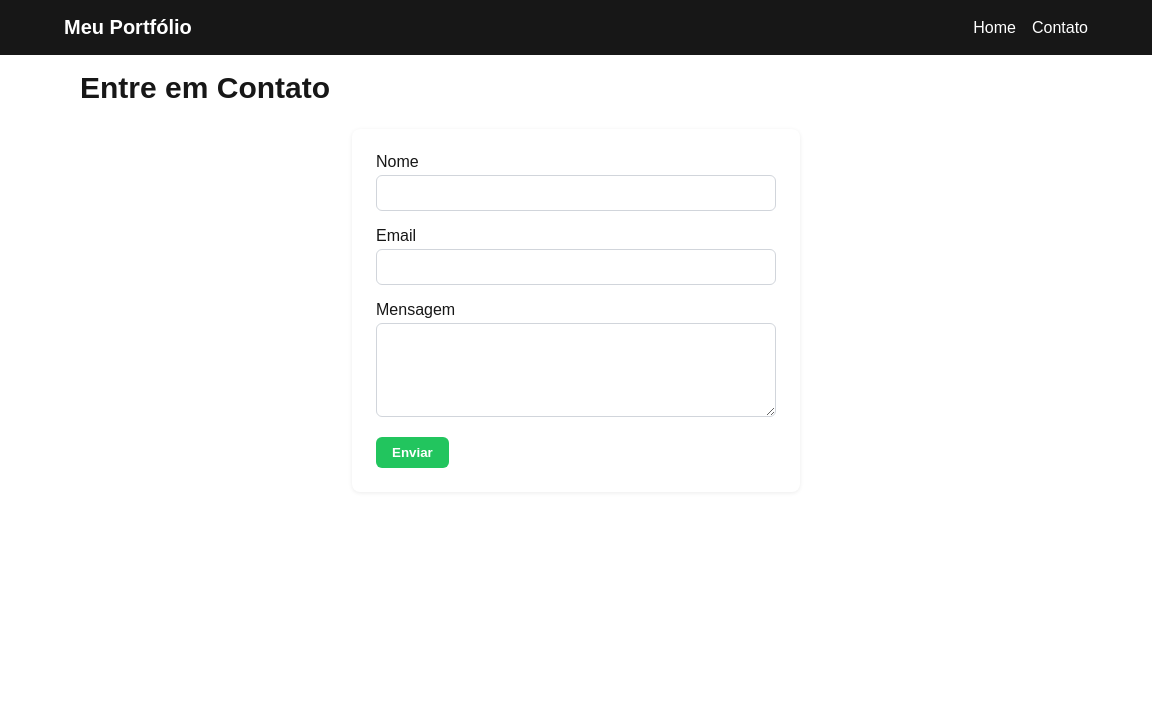
Formulário de Contato › exibe mensagem de sucesso ao enviar formulário
The width and height of the screenshot is (1152, 720).
# Preenche o formulário
Type "João Silva" into the field with test id "name-input" at point(576, 193), box [376,175,776,211]
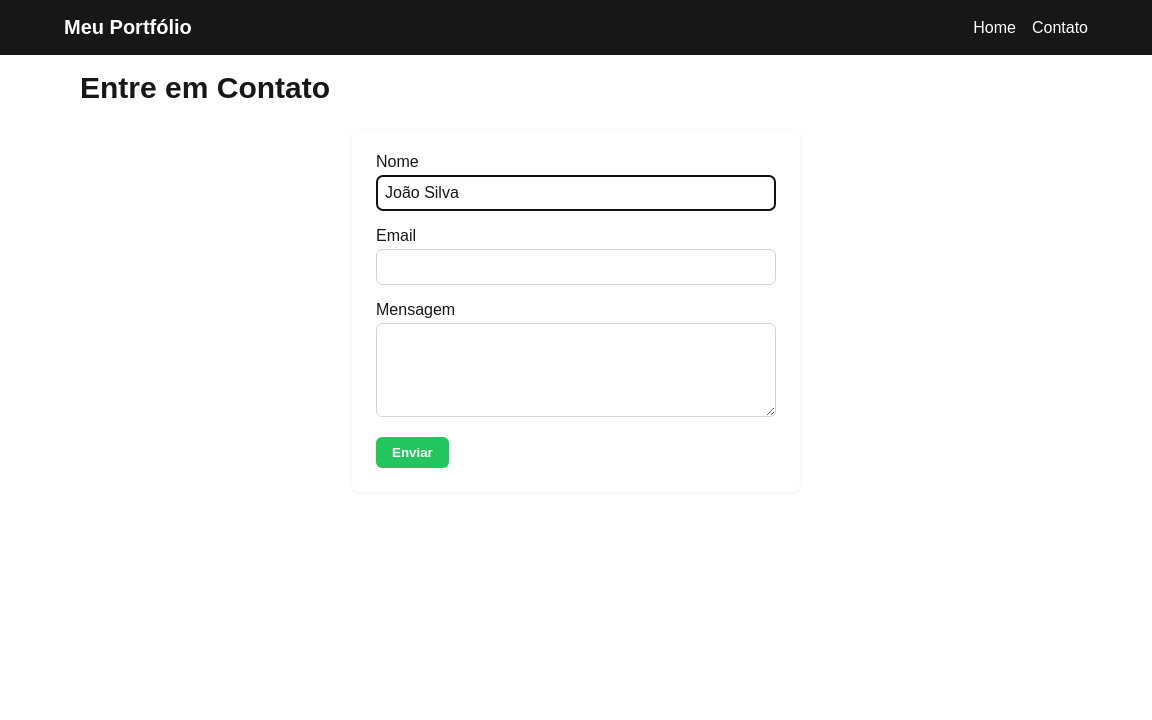
Type "joao@exemplo.com" into the field with test id "email-input" at point(576, 267), box [376,249,776,285]
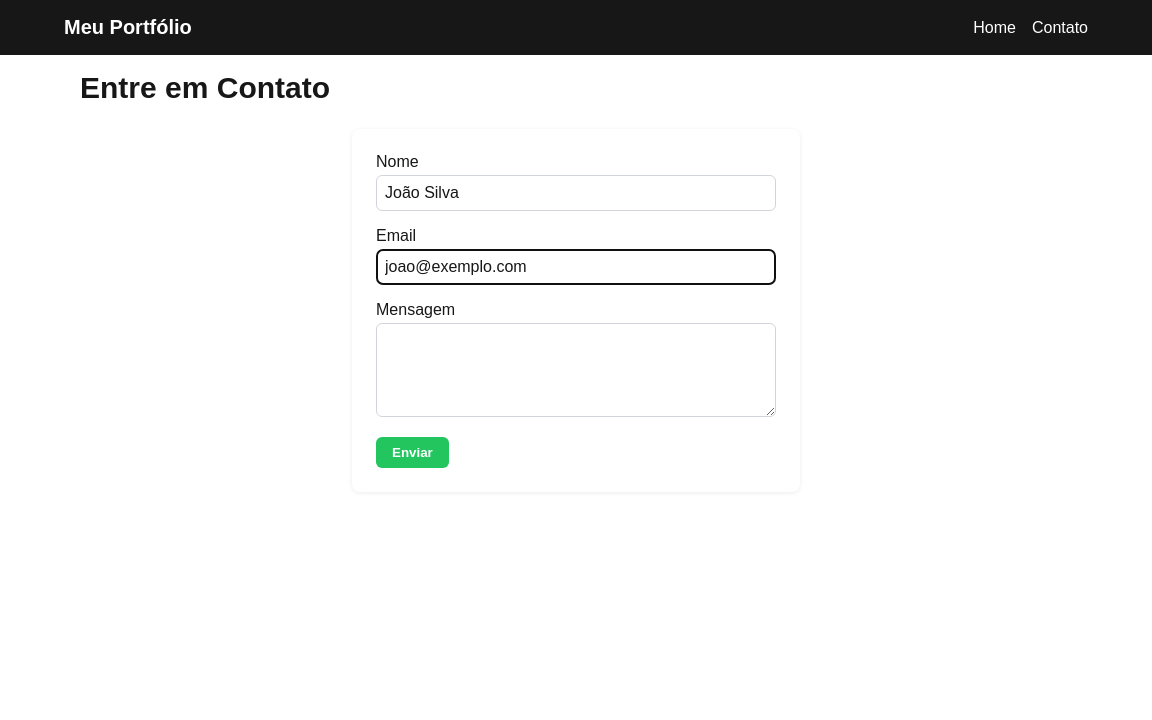
Type "Olá, gostaria de entrar em contato." into the text box with test id "message-input" at point(576, 370), box [376,323,776,417]
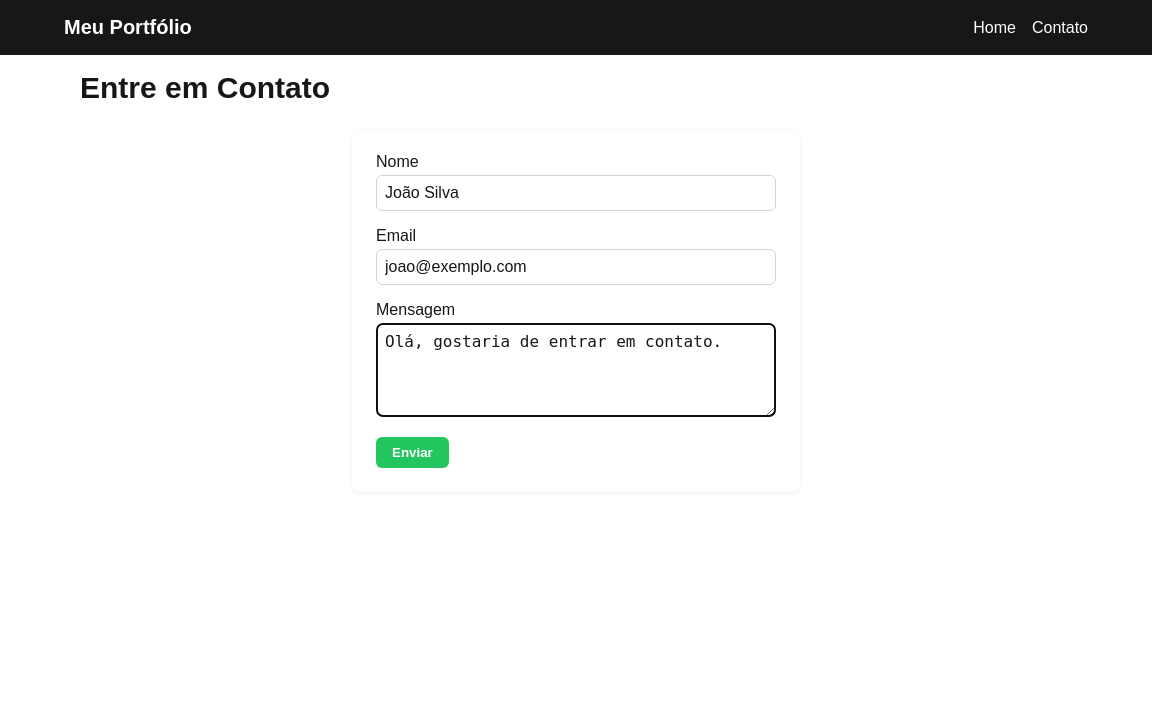
# Submete o formulário
Click the button with test id "submit-button" at point(413, 453), box [376,437,449,468]
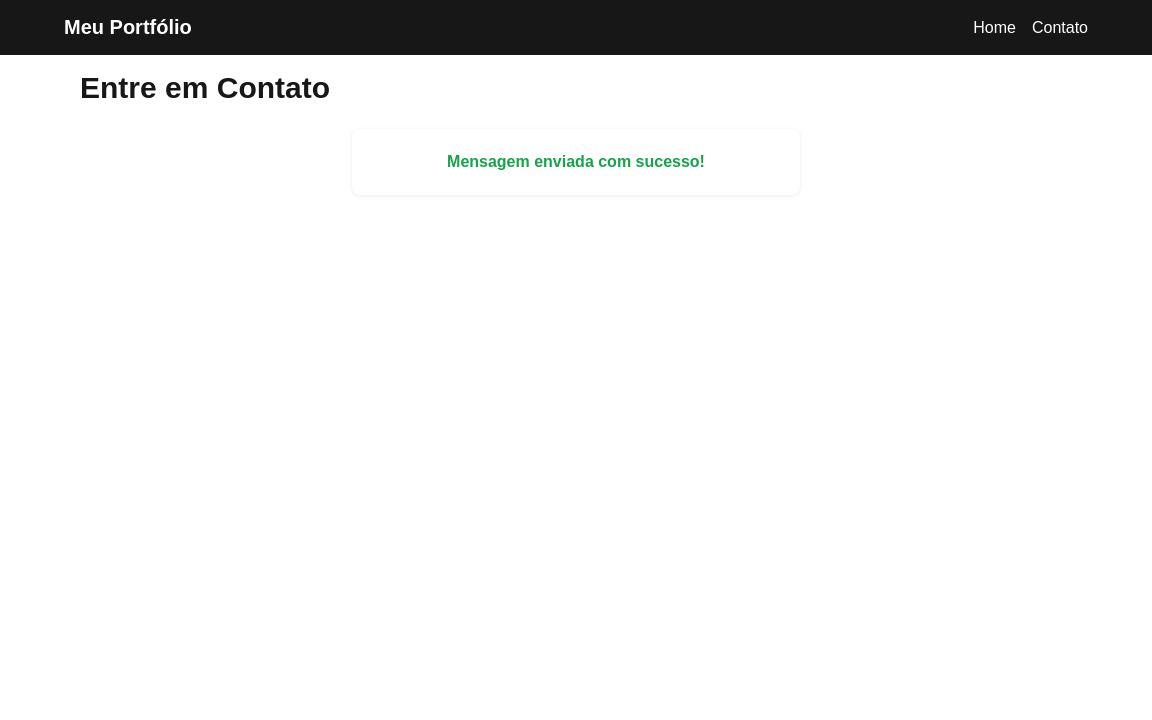
Expected: the text with test id "success-message" reads "Mensagem enviada com sucesso!", [447,153,705,170]
